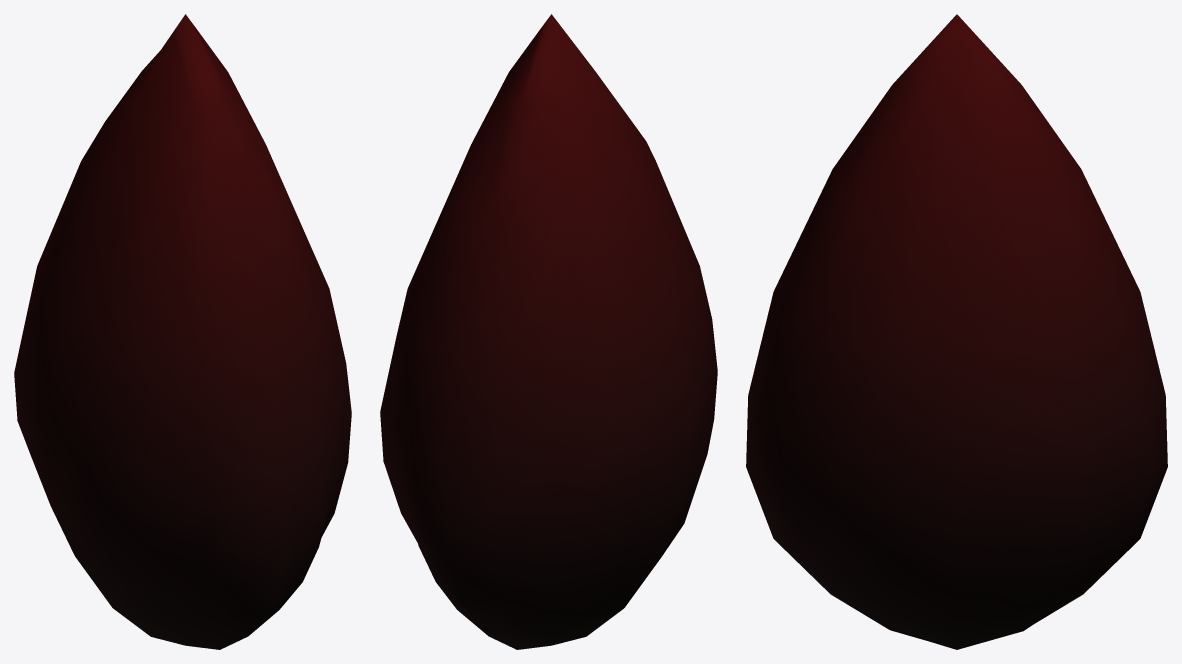
Rendered from seed.fbx.
The picture shows the model from 3 angles, left to right: view 1: azimuth 30°, elevation 25°; view 2: azimuth 150°, elevation 25°; view 3: azimuth 270°, elevation 25°; orthographic projection.
Visible parts, largest first — view 1: Seed; view 2: Seed; view 3: Seed.
Boxes of the visible parts, x1,y1,x2,y2 form: Seed: (14,14,351,649); Seed: (380,14,717,649); Seed: (746,14,1167,649).
Size of the model in its own units: 90.01 by 198 by 119.
Materials: 1 (1 with a texture image).
